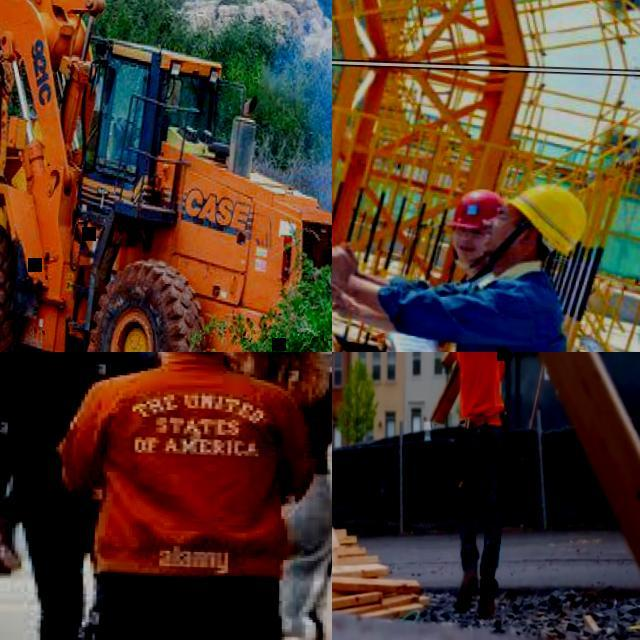Helmet: (507, 178, 587, 276), (431, 174, 513, 246)
Robbery: (50, 352, 334, 640), (343, 160, 640, 388), (417, 326, 540, 605), (432, 178, 504, 294)
